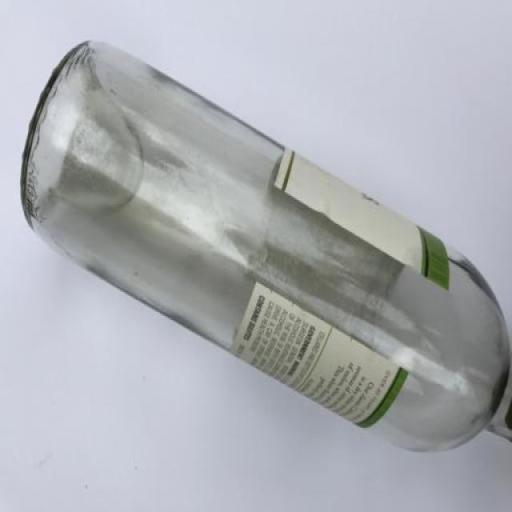glass: (9, 17, 512, 451)
